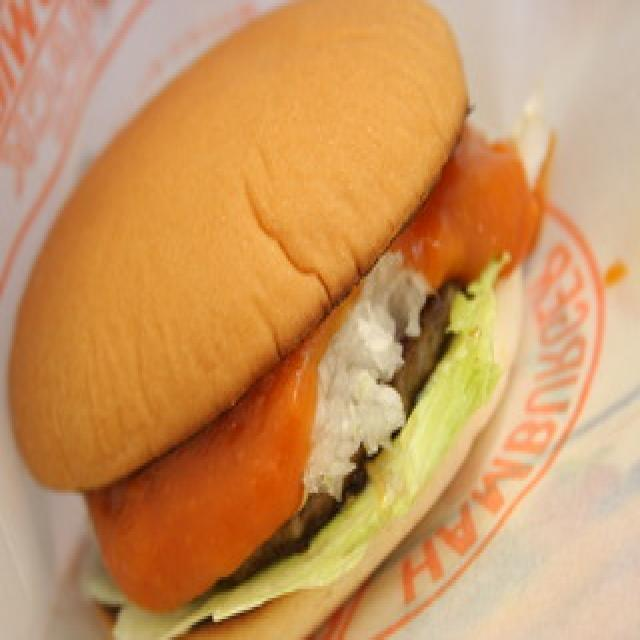Hamburger: (14, 0, 558, 633)
